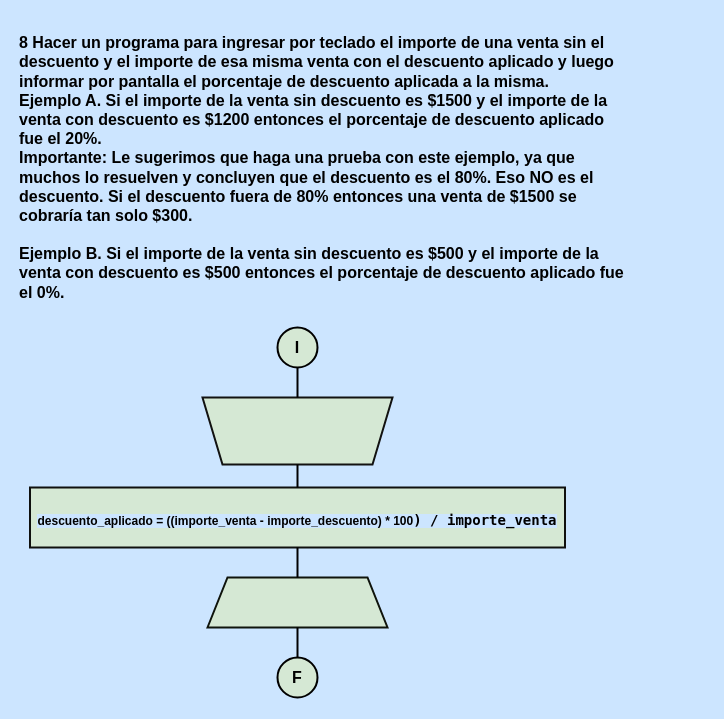
The diagram is 724 pixels wide and 719 high, and some of its shapes have lost their labels. Here are the shapes that lost their labels. From the top down, the centre of each, then its label:
At (297,430): "importe_venta, importe_descuento".
At (297,602): "descuento_aplicado".
